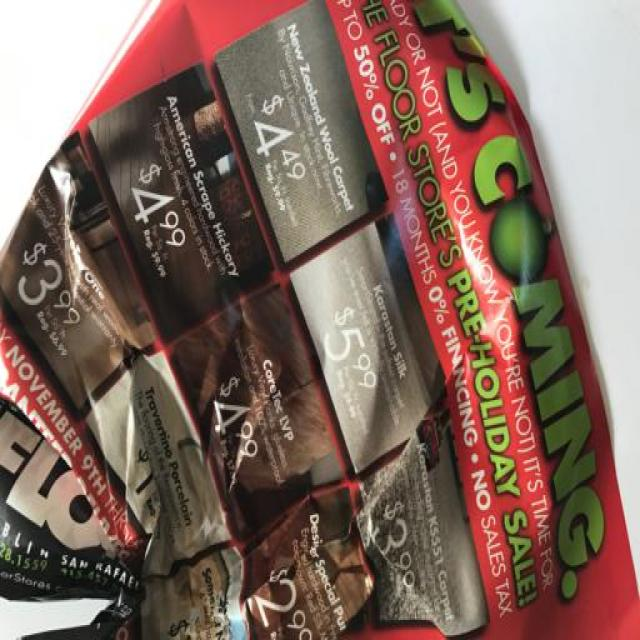paper: (3, 1, 640, 640)
